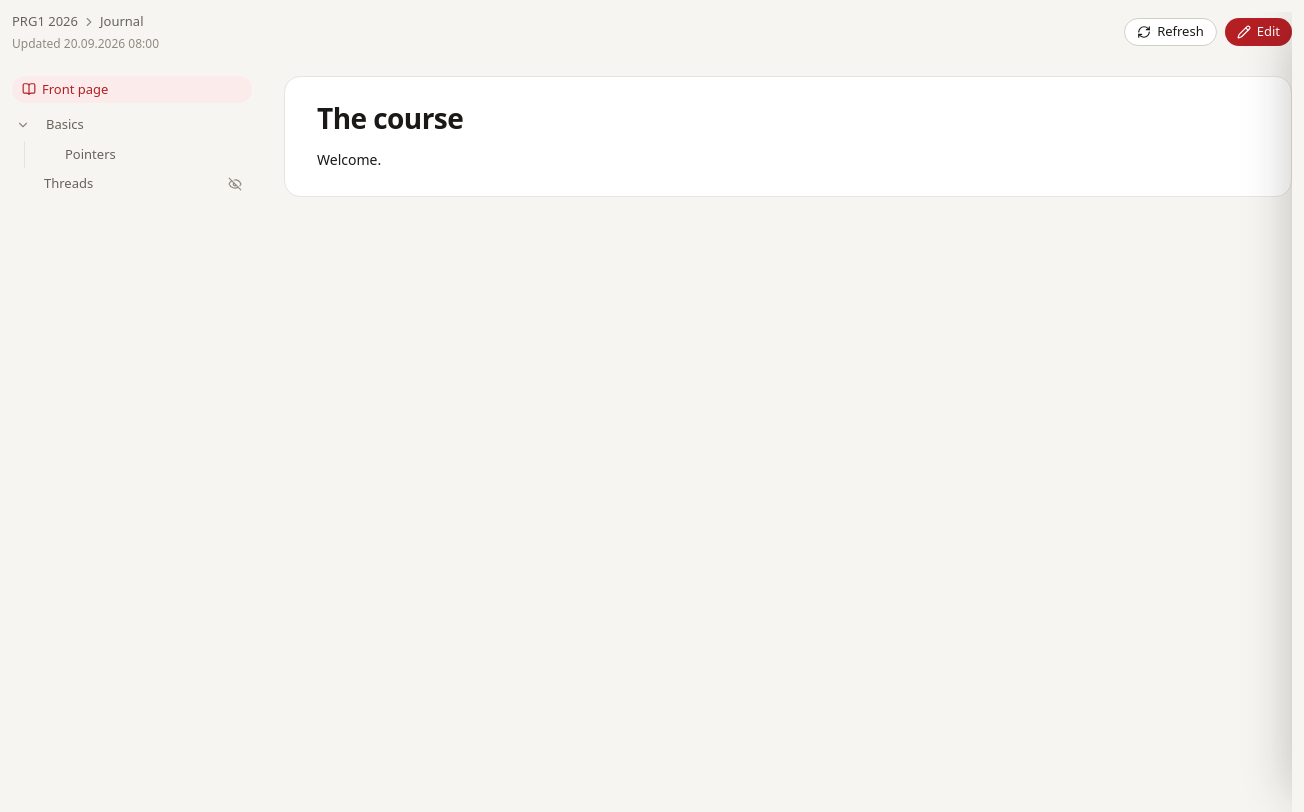
Test: JournalPage, as staff › keeps the draft and explains itself when GitHub refuses the write
Click the button "Edit". click: x=1258, y=32
box: [1225,18,1292,46]
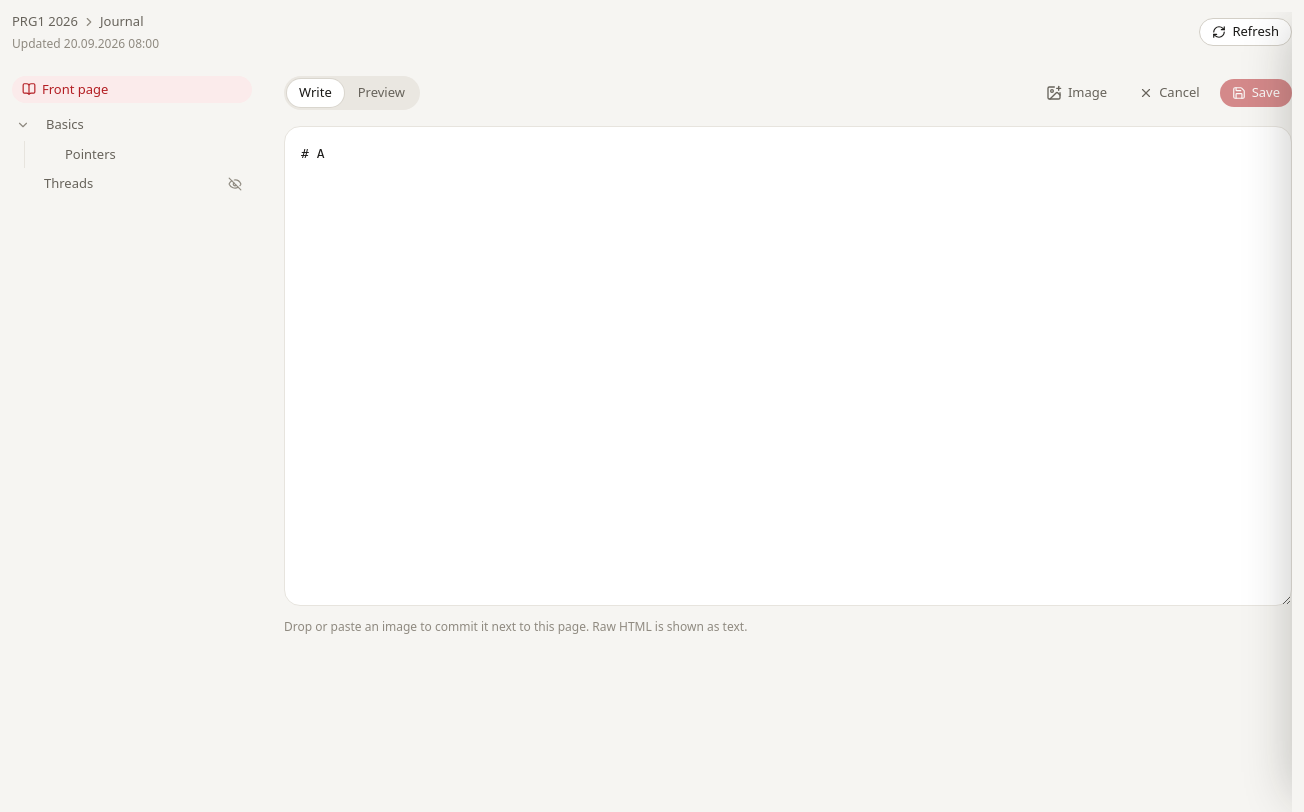
Type "B" into the text box named "Markdown source of README.md". click: x=788, y=366
box: [284,126,1292,606]
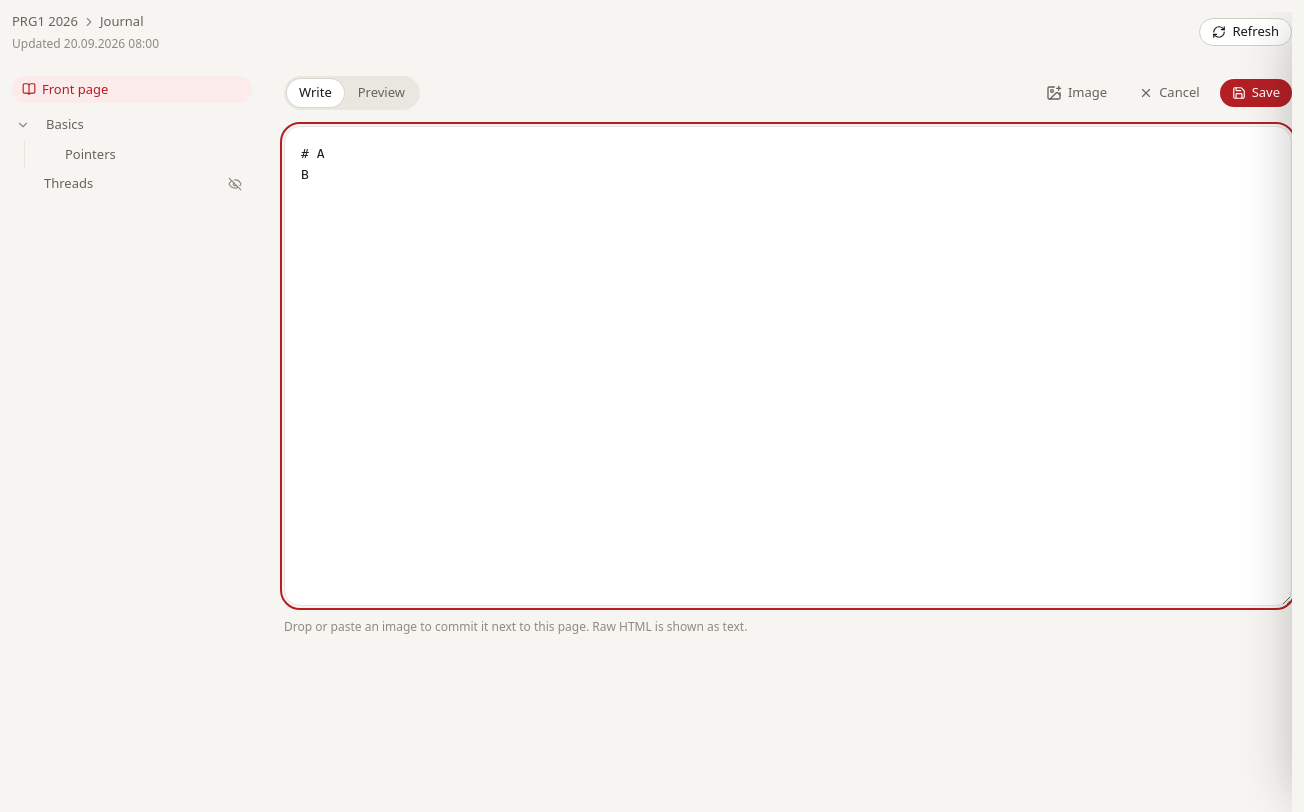
Click the button "Save". click: x=1256, y=92
box: [1220,78,1292,106]
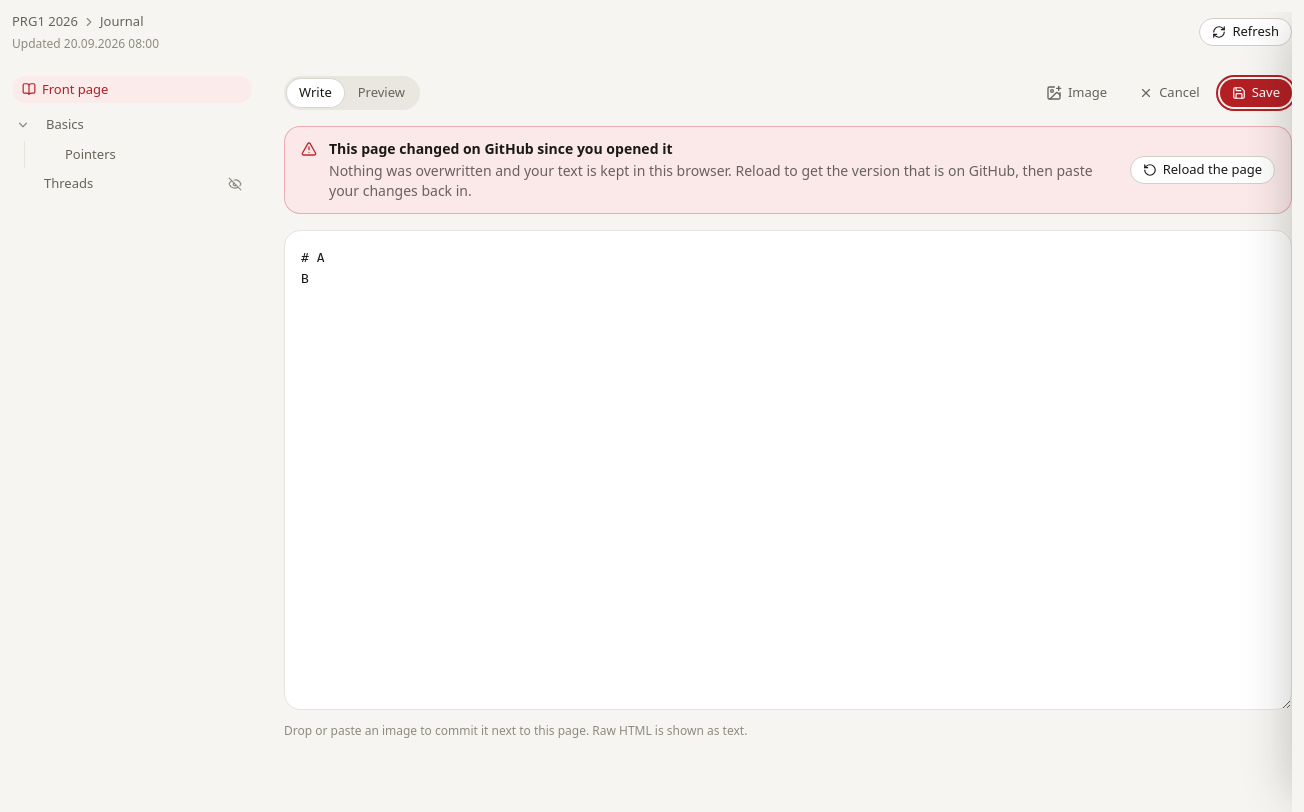
Expected: the text "This page changed on GitHub since you opened it" is shown, [329,138,672,158]
